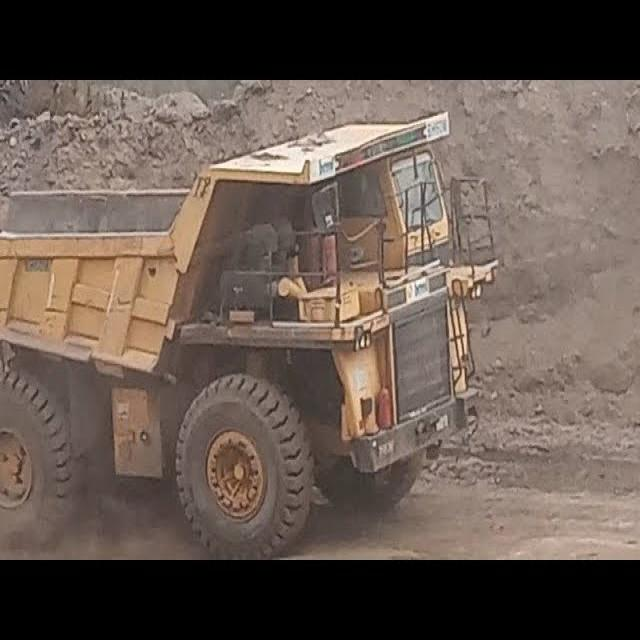dump_truck: (1, 100, 492, 545)
